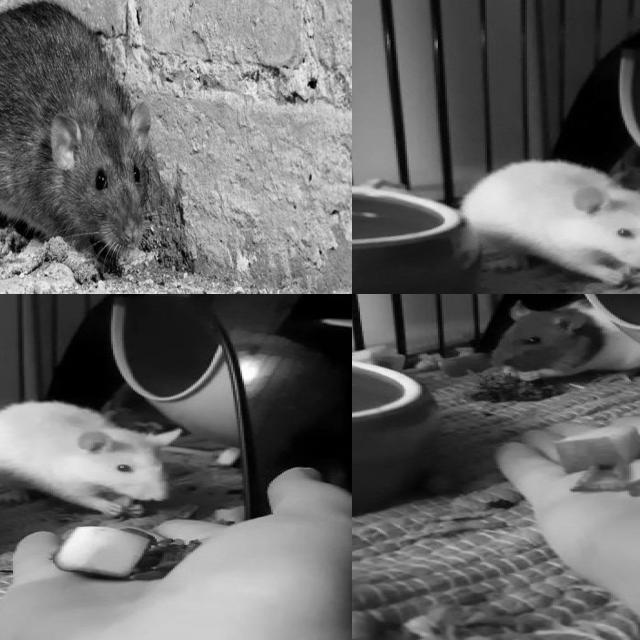rat: (0, 4, 151, 253), (469, 159, 640, 284), (0, 403, 183, 518), (492, 296, 640, 381)
